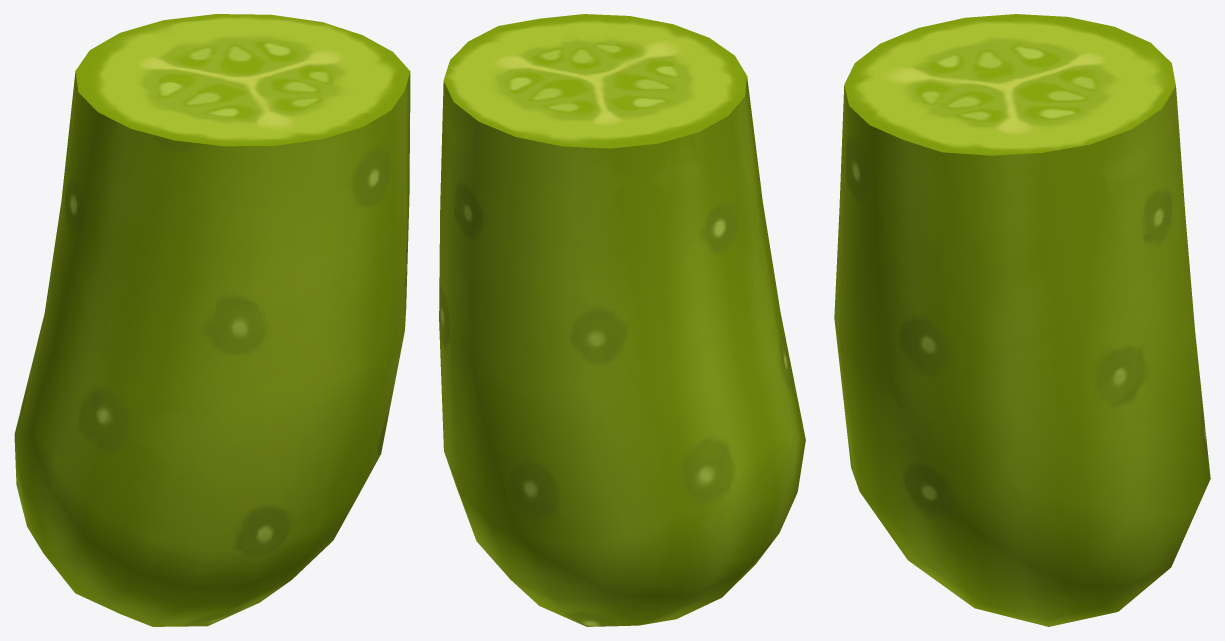
The model's file is pickle_bottom.glb.
3 renders of one model, left to right at view 1: azimuth 30°, elevation 25°; view 2: azimuth 150°, elevation 25°; view 3: azimuth 270°, elevation 25°, orthographic. The views are drawn at different scales.
Visible parts, largest first — view 1: PickleBottomA, PickleBottomB; view 2: PickleBottomA, PickleBottomB; view 3: PickleBottomA, PickleBottomB.
Part boxes in pixels (<box>): PickleBottomA: <box>14,71,410,626</box>; PickleBottomB: <box>75,14,410,146</box>; PickleBottomA: <box>439,76,805,626</box>; PickleBottomB: <box>443,14,746,148</box>; PickleBottomA: <box>834,86,1210,626</box>; PickleBottomB: <box>844,14,1175,155</box>.
Size of the model in its own units: 0.5575 by 0.8339 by 0.5172.
1 material, 1 textured.
